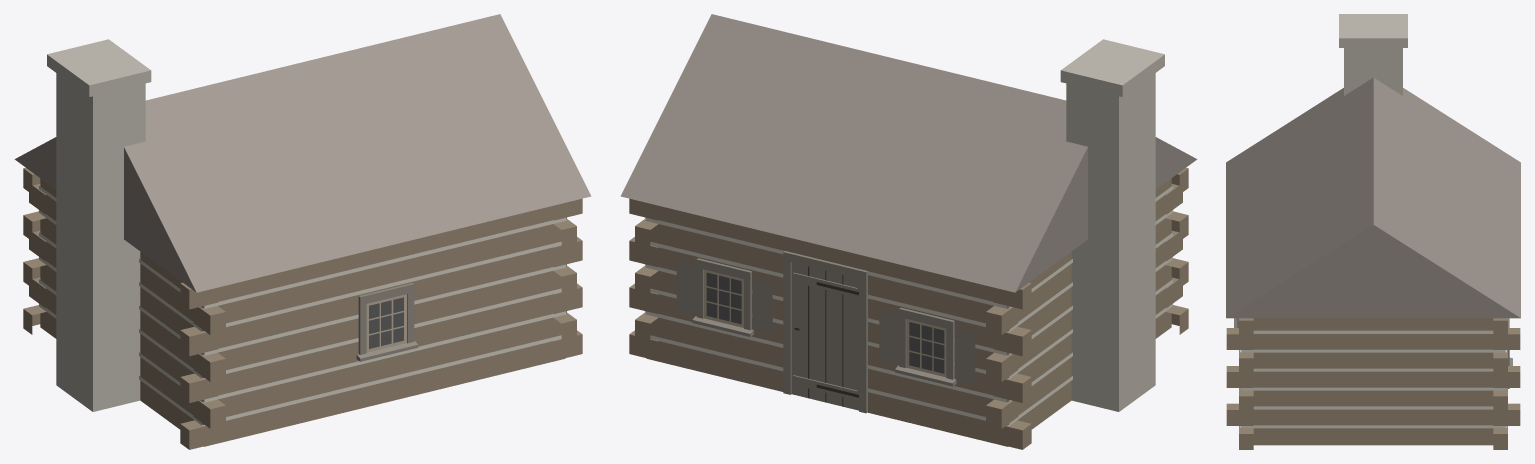
The model's file is caldwell_agency_log_house__log_1830.glb.
The picture shows the model from 3 angles, left to right: view 1: azimuth 30°, elevation 25°; view 2: azimuth 150°, elevation 25°; view 3: azimuth 270°, elevation 25°; orthographic projection. The views are drawn at different scales.
Parts seen in each view (by area): view 1: caldwell_agency_log_house__log_1830; view 2: caldwell_agency_log_house__log_1830; view 3: caldwell_agency_log_house__log_1830.
Part boxes in pixels (x1,y1,x2,y2): caldwell_agency_log_house__log_1830: (14, 14, 591, 449); caldwell_agency_log_house__log_1830: (620, 14, 1197, 449); caldwell_agency_log_house__log_1830: (1226, 14, 1520, 449).
Size of the model in its own units: 6.57 by 4.8 by 4.8.
